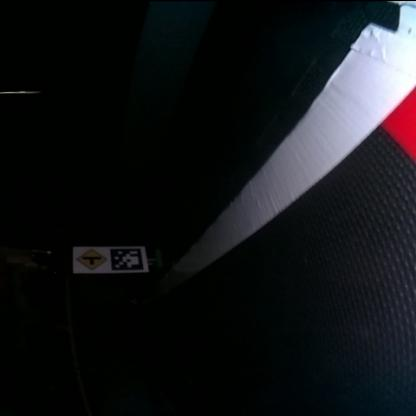Intersection sign: (76, 247, 106, 270)
QR code: (109, 248, 143, 271)
